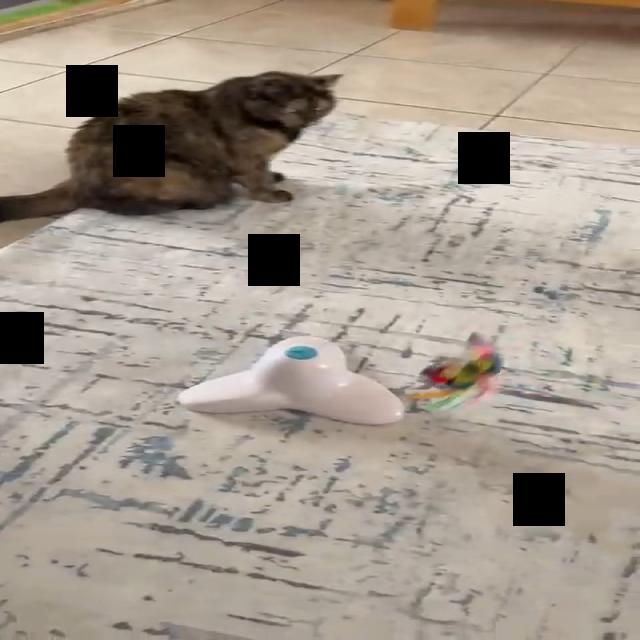authorized: (0, 70, 344, 222)
